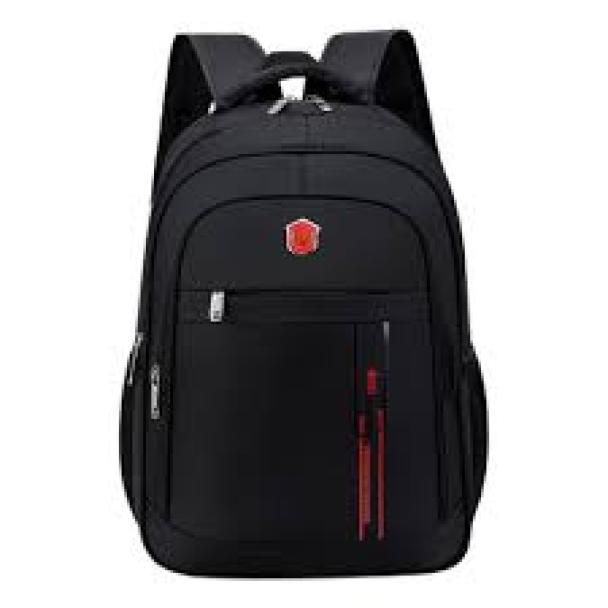Tas: (119, 98, 480, 575)
